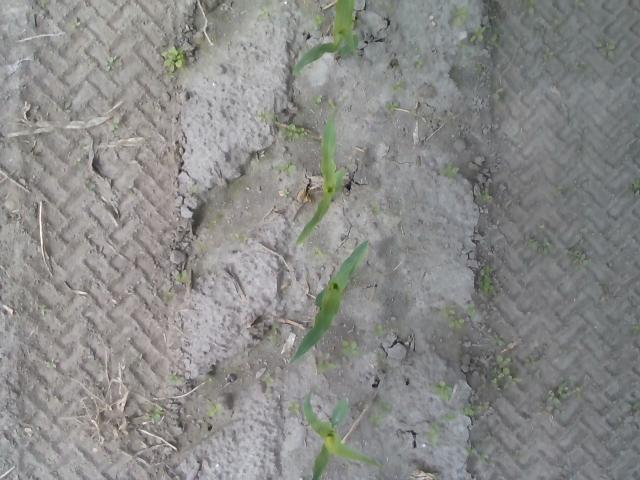Maize: (286, 238, 369, 370), (294, 108, 352, 246), (302, 388, 383, 480), (286, 0, 364, 78)
Weeds: (492, 354, 524, 389), (442, 304, 478, 330), (468, 25, 499, 46), (160, 46, 184, 72), (478, 266, 498, 294), (592, 42, 622, 59), (548, 382, 570, 404), (432, 380, 454, 400), (466, 446, 487, 465), (528, 236, 550, 253), (368, 400, 382, 426), (143, 406, 163, 423), (430, 421, 442, 447), (566, 250, 588, 264), (439, 164, 461, 178), (339, 340, 358, 356), (452, 7, 468, 26), (286, 125, 306, 140), (491, 84, 504, 104), (382, 99, 400, 113), (276, 160, 296, 172), (207, 403, 223, 417), (460, 403, 477, 416), (256, 110, 274, 122), (169, 372, 184, 386), (319, 360, 338, 370), (103, 55, 115, 70), (82, 180, 97, 192), (441, 412, 457, 423), (310, 248, 326, 259), (288, 402, 300, 416), (262, 374, 274, 388), (372, 323, 385, 335), (173, 269, 186, 281), (312, 14, 325, 26), (478, 190, 490, 202), (630, 179, 640, 193), (258, 7, 272, 17), (108, 120, 119, 132), (391, 81, 402, 92), (494, 335, 506, 345), (312, 94, 323, 103)
